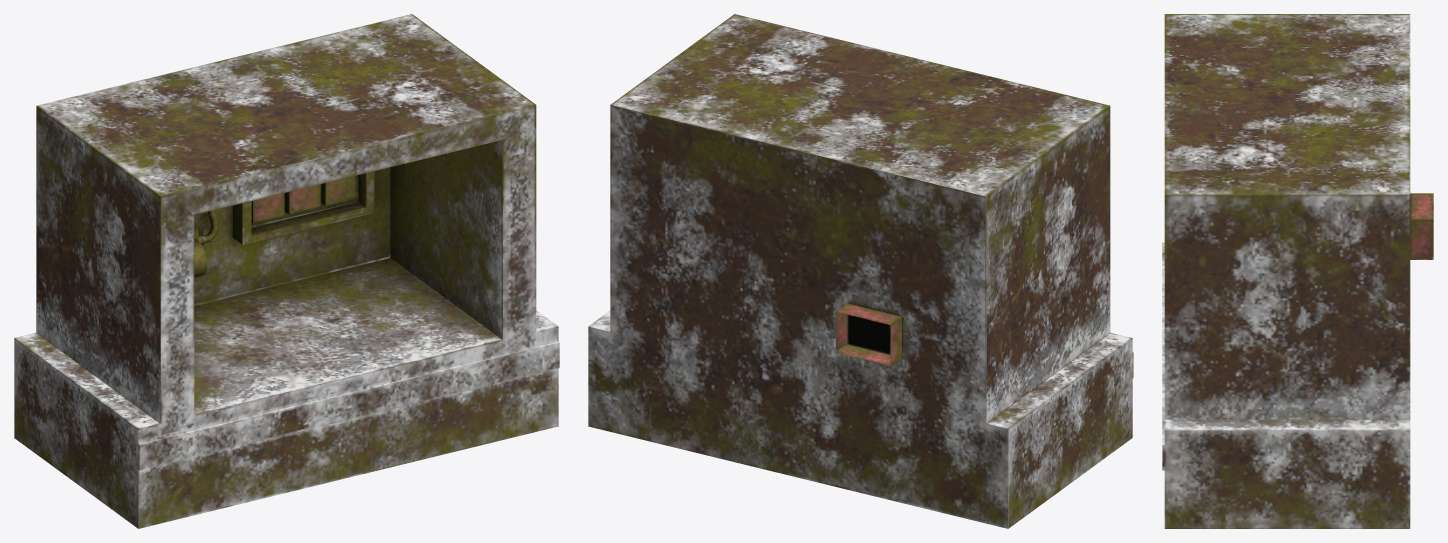
Rendered from lockcode.glb.
3 views of the same model, side by side, from view 1: azimuth 30°, elevation 25°; view 2: azimuth 150°, elevation 25°; view 3: azimuth 270°, elevation 25° (orthographic).
Parts seen in each view (by area): view 1: codelock_low, button_box_low, buttons_low; view 2: codelock_low, lever_back_low; view 3: codelock_low, lever_back_low.
Boxes of the visible parts, left/top/right/bottom form: codelock_low: left=14, top=14, right=559, bottom=528; button_box_low: left=233, top=171, right=374, bottom=244; buttons_low: left=251, top=175, right=356, bottom=223; codelock_low: left=588, top=14, right=1133, bottom=528; lever_back_low: left=836, top=303, right=901, bottom=365; codelock_low: left=1162, top=14, right=1410, bottom=528; lever_back_low: left=1410, top=193, right=1433, bottom=259.
Size of the model in its own units: 0.7224 by 0.5372 by 0.4087.
1 material, 1 textured.
